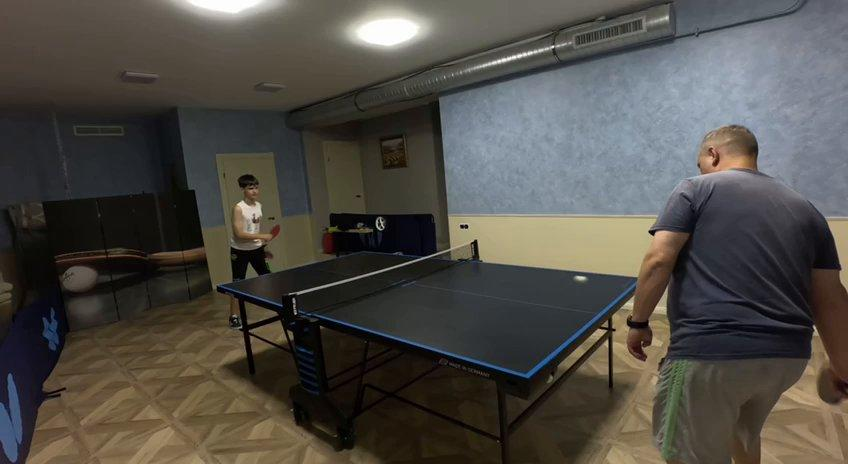Ball: (573, 274, 589, 285)
Net: (280, 241, 481, 325)
Player1: (229, 174, 278, 279)
Player2: (627, 128, 840, 463)
Table: (220, 250, 640, 376)
